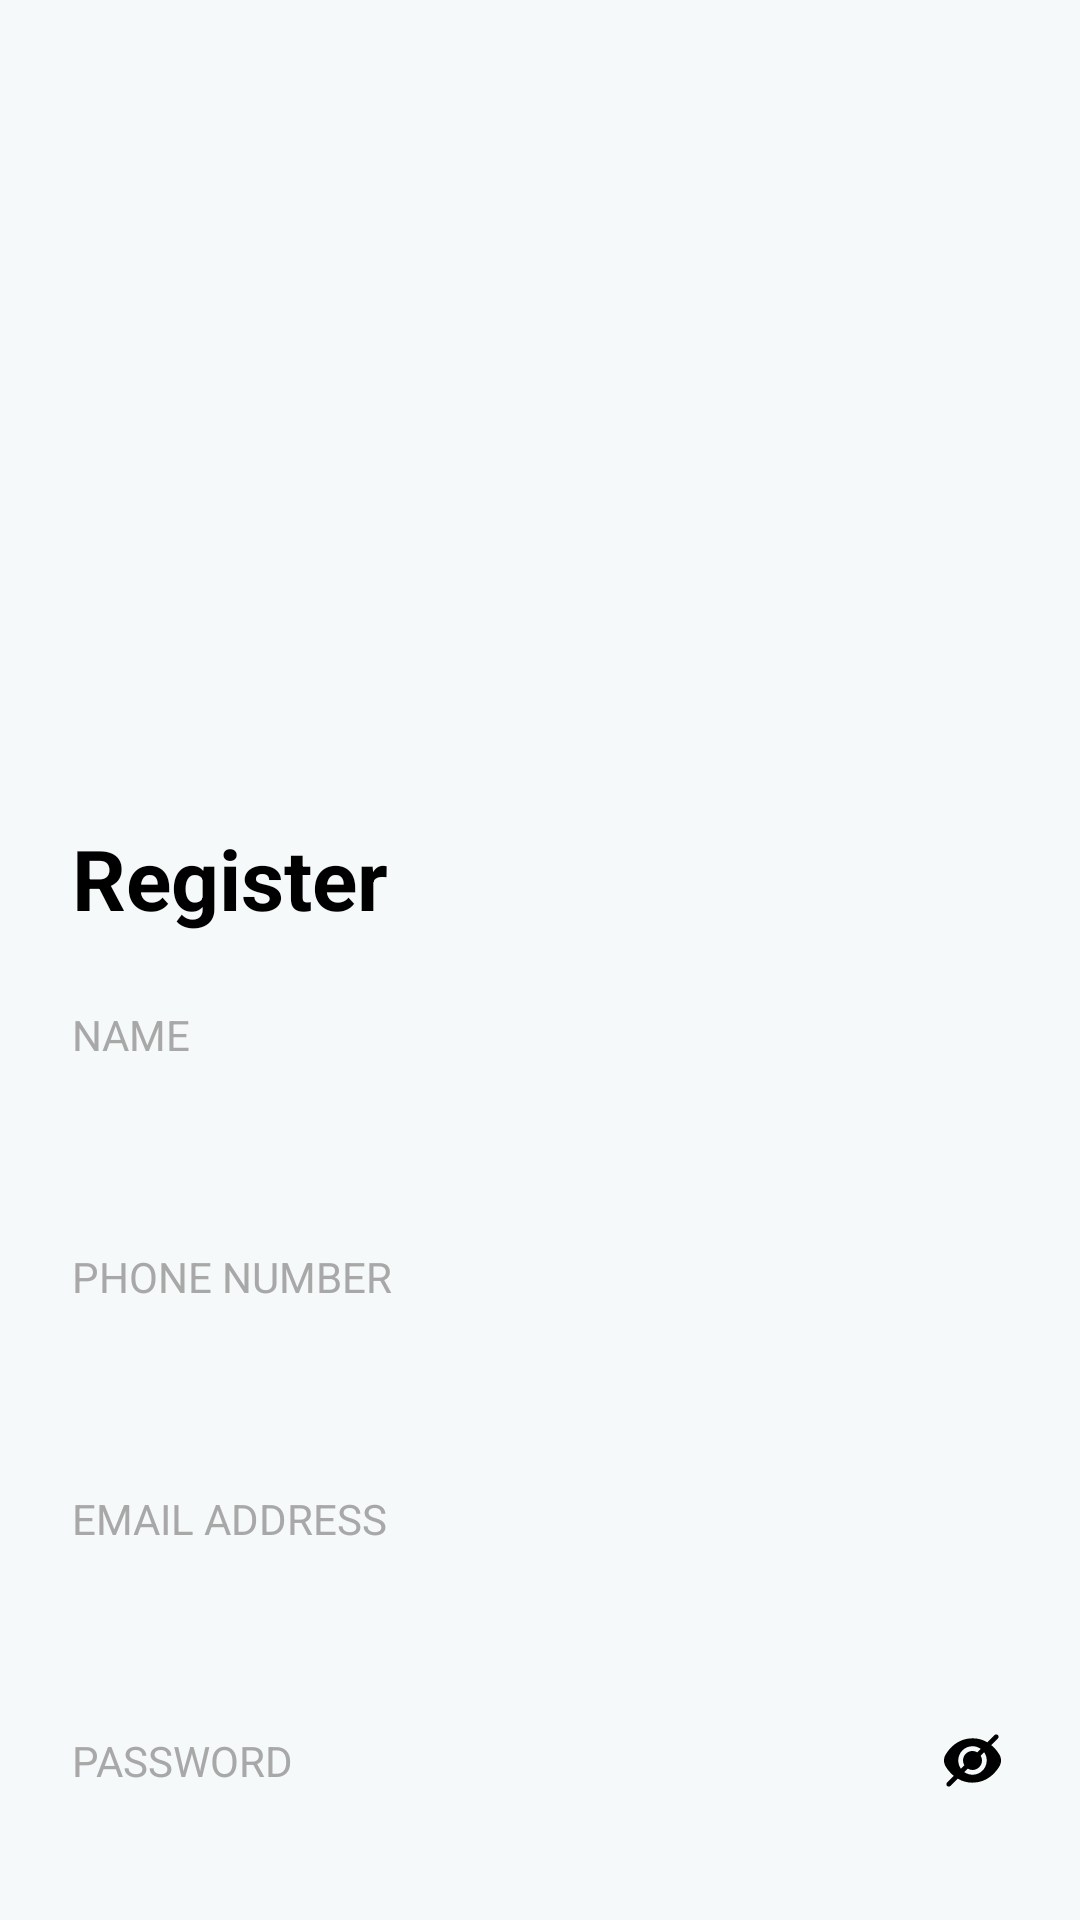

Where icons sit on this 1080x1920 app screen, as region(x1, y1, x2, y2):
eye crossed: region(944, 1734, 1001, 1787)
